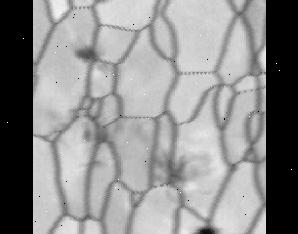good_void: (152, 147, 215, 197), (75, 111, 114, 151), (69, 39, 107, 67), (188, 220, 227, 234), (191, 224, 218, 234), (92, 0, 117, 10)
